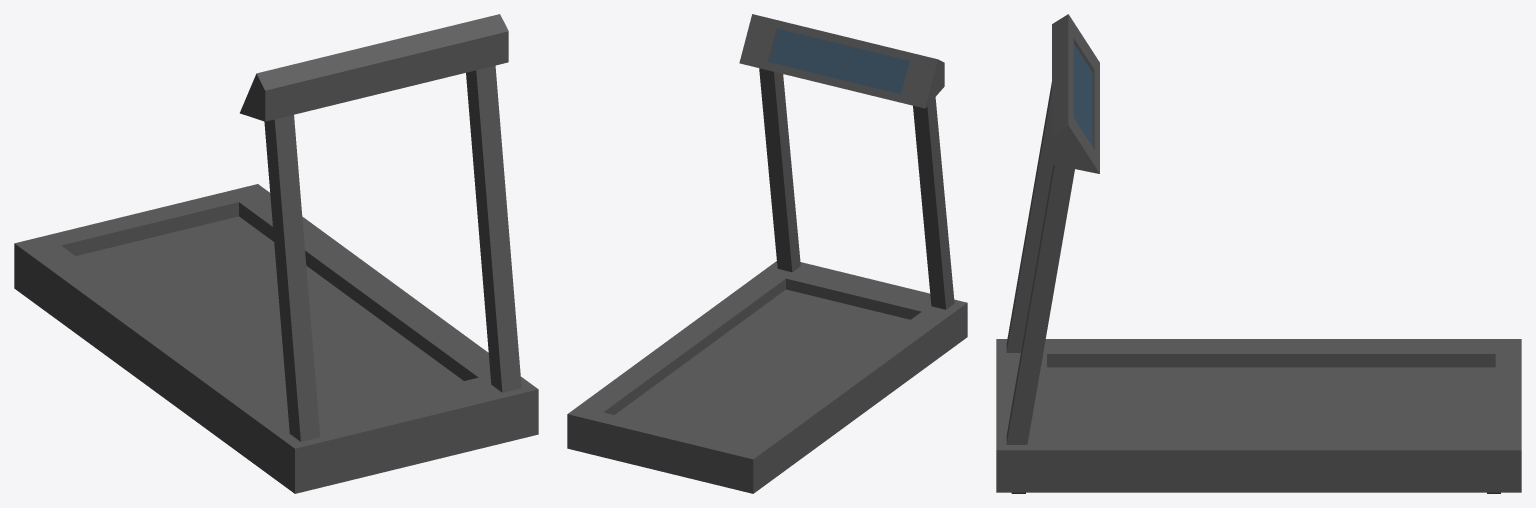
File: treadmill-2-main.glb
3 renders of one model, left to right at view 1: azimuth 30°, elevation 25°; view 2: azimuth 150°, elevation 25°; view 3: azimuth 270°, elevation 25°, orthographic. The views are drawn at different scales.
Parts seen in each view (by area): view 1: Treadmill_2_Main; view 2: Treadmill_2_Main; view 3: Treadmill_2_Main.
Part boxes in pixels (x1,y1,x2,y2): Treadmill_2_Main: (14, 14, 538, 493); Treadmill_2_Main: (567, 14, 967, 493); Treadmill_2_Main: (996, 14, 1521, 493).
Bounding box in the file's own units: 87.78 × 137 × 175.
Materials: 1 (1 with a texture image).
